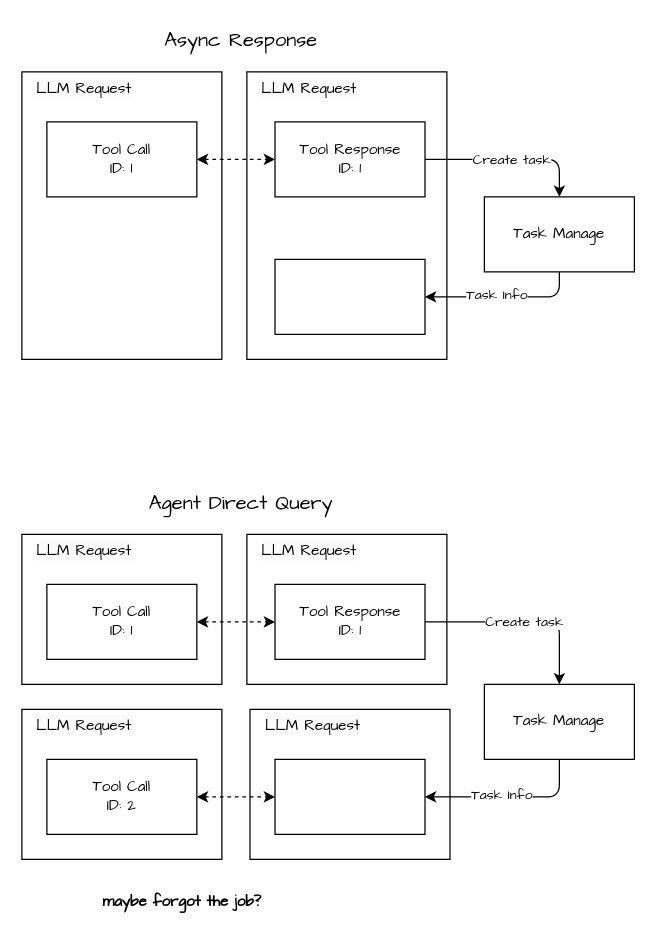
The diagram is 656 pixels wide and 943 high, and some of its shapes have lost their labels. Each missing label, with the box of its shape:
Tool Response ID: 2: (274, 758, 425, 834)
User Message: (274, 258, 425, 334)
